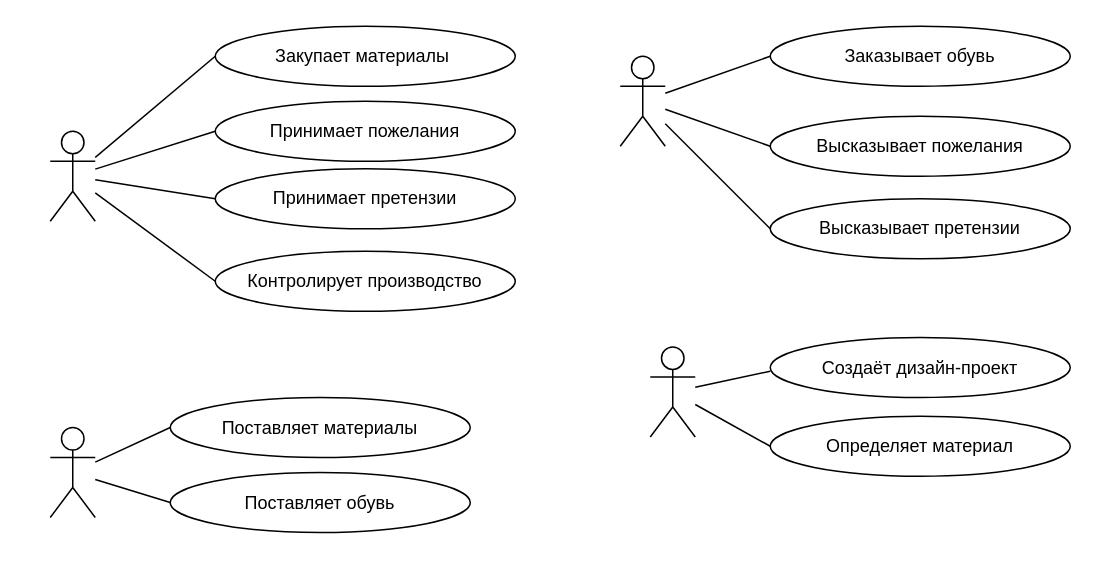
Some shapes in this 1097 by 575 pixel diagram are drawn without their labels. Here are the shapes that lost their labels. From the top down, the centre of each, then its label:
At (642,100): "Заказчик".
At (72,175): "Менеджер".
At (672,391): "Дизайнер".
At (72,472): "Поставщик".
